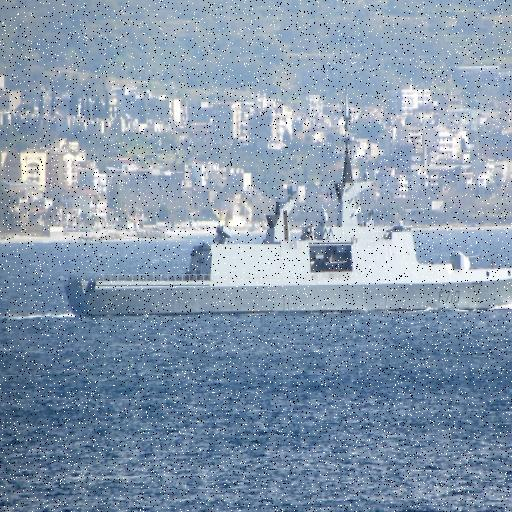Fragata: (58, 104, 512, 323)
